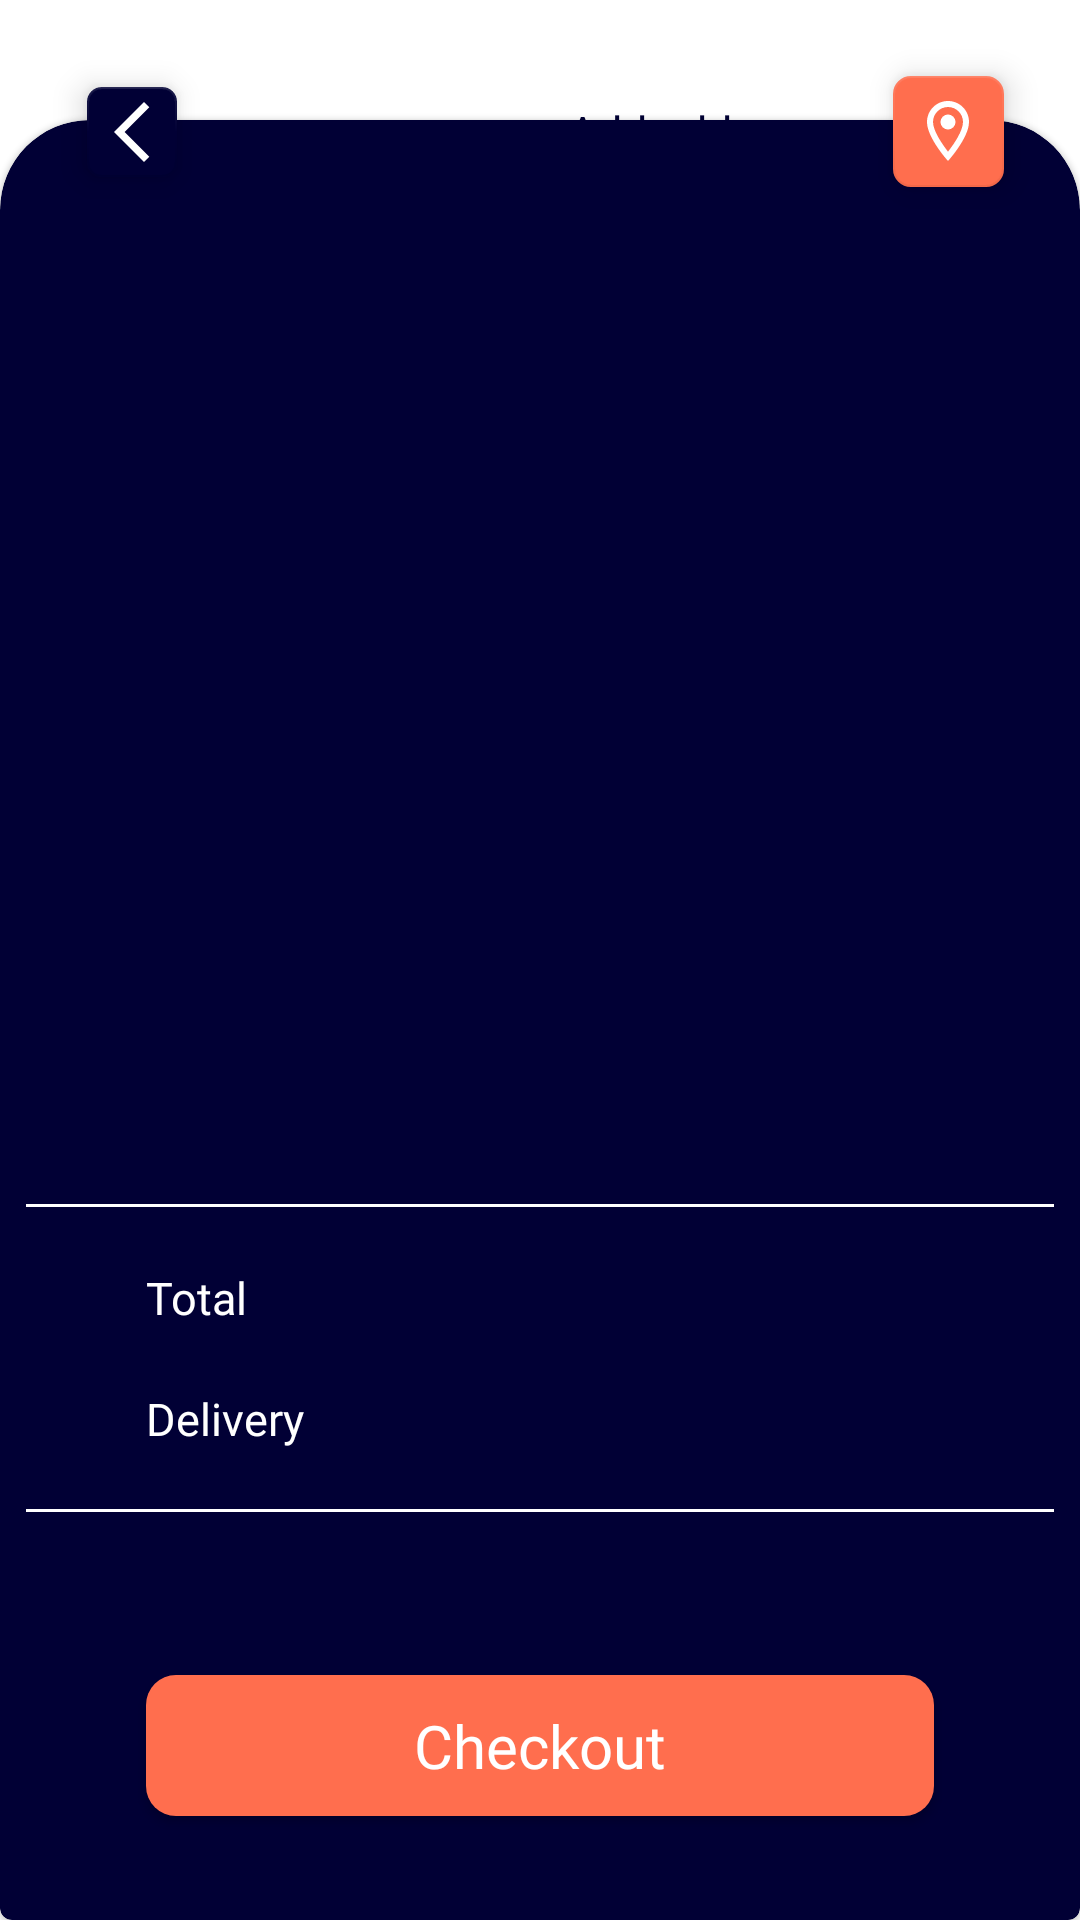

Screen size 1080px×1920px. Icon name, then its center in pixels as [x,y]:
arrow back: [132,132]
location on: [948,131]
